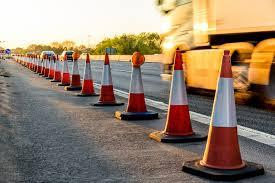car: (59, 51, 79, 62), (40, 51, 57, 63)
traffic cone: (182, 49, 265, 182), (149, 49, 207, 144), (114, 52, 159, 121), (91, 52, 124, 107), (76, 53, 100, 97), (65, 60, 82, 91), (58, 61, 71, 86), (86, 53, 90, 63)
